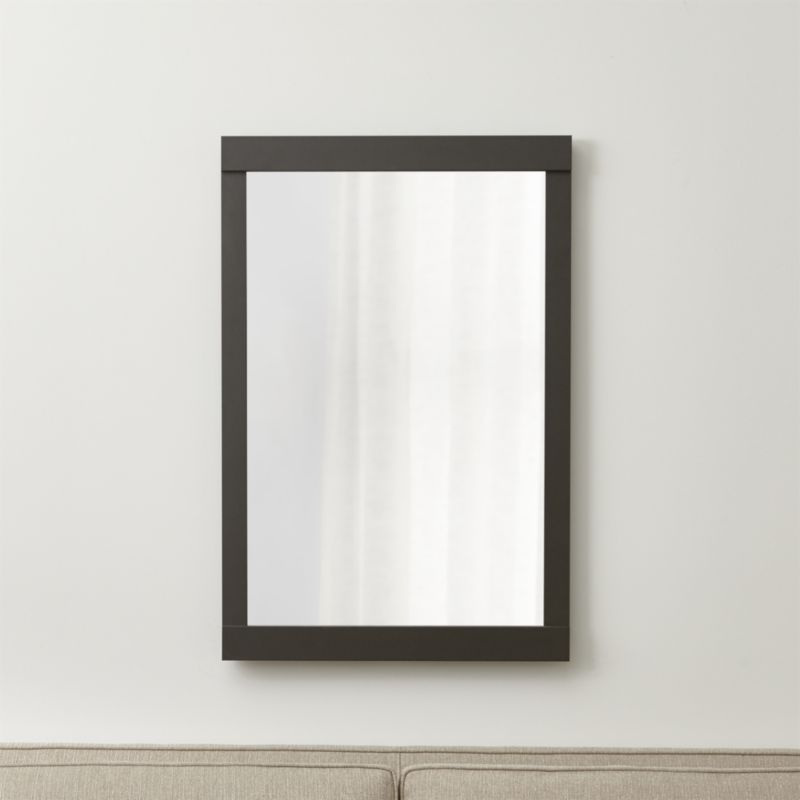Nonrec_Glass: (207, 134, 586, 666)
